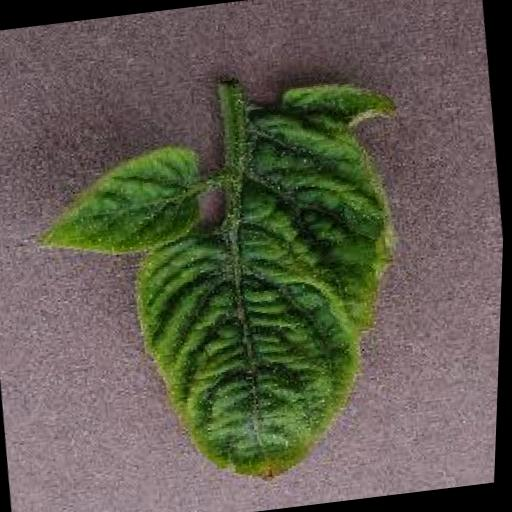Yellow Leaf Curl Virus: (15, 74, 436, 508)
